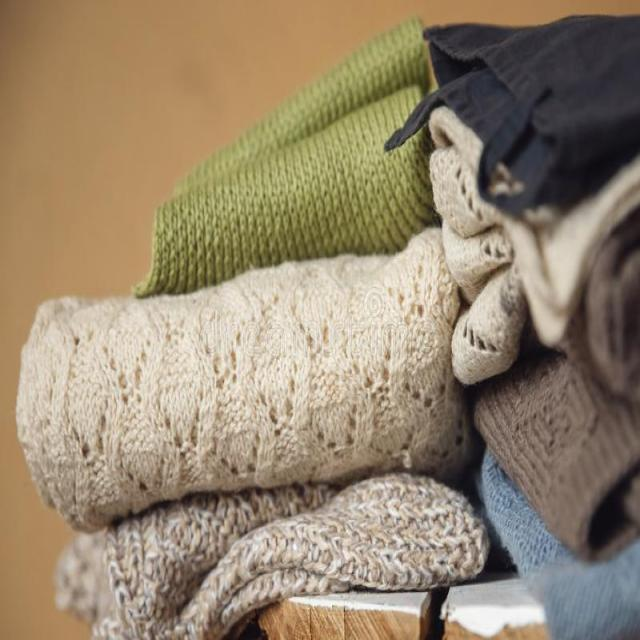clothes: (438, 26, 640, 620), (43, 299, 470, 498), (154, 27, 426, 312), (60, 527, 492, 640)
